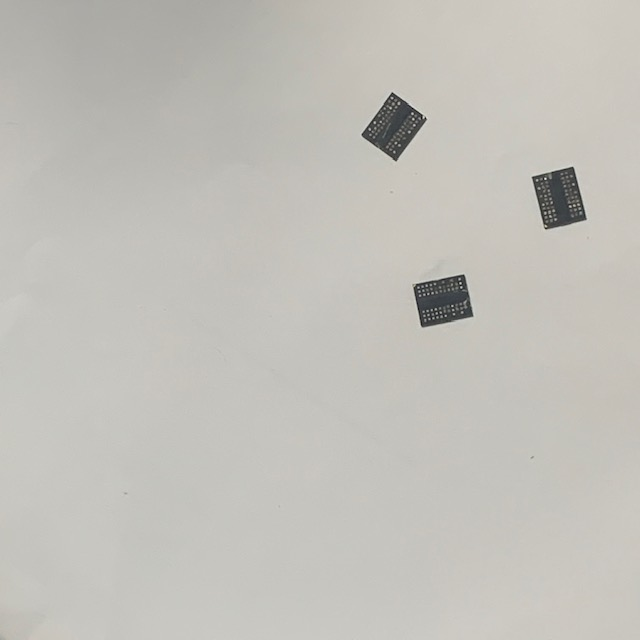IC: (359, 87, 429, 164), (530, 162, 591, 232), (411, 272, 477, 330)
